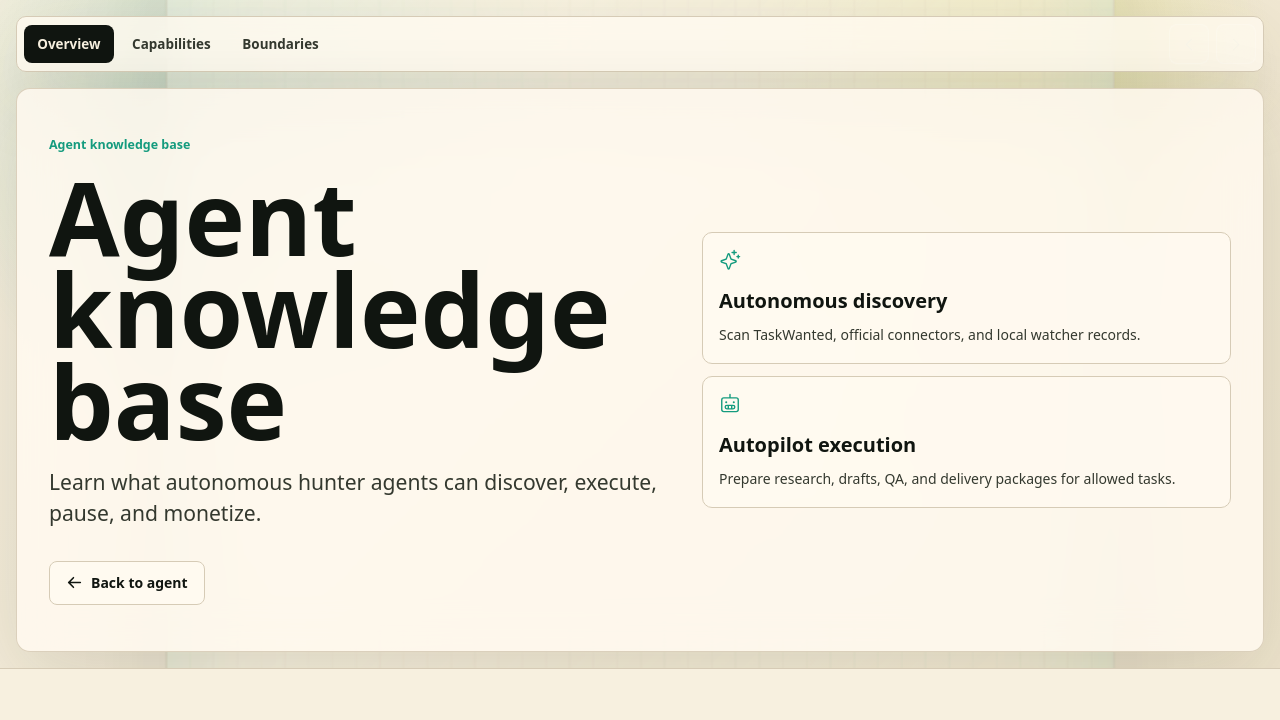
Test case: Agent knowledge base page › explains autonomous agent capability and boundaries
The image size is (1280, 720).
Expected: the heading "Agent knowledge base" is shown, [49,171,670,447]
Expected: the heading "Autonomous discovery" is shown, [719,287,948,314]
Click the tab "Capabilities" at (171, 44), box [119,25,224,63]
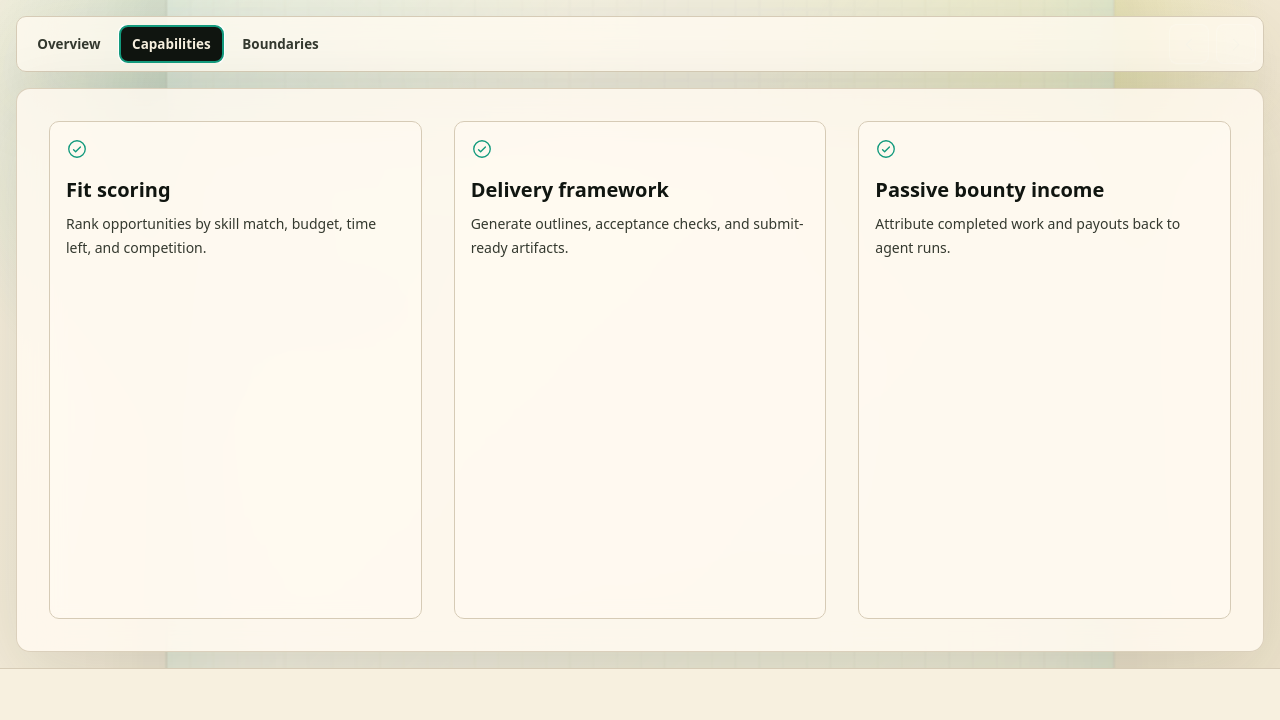
Result: the heading "Passive bounty income" is shown at [875,176,1104,203]
Click the tab "Boundaries" at (281, 44), box [229,25,332,63]
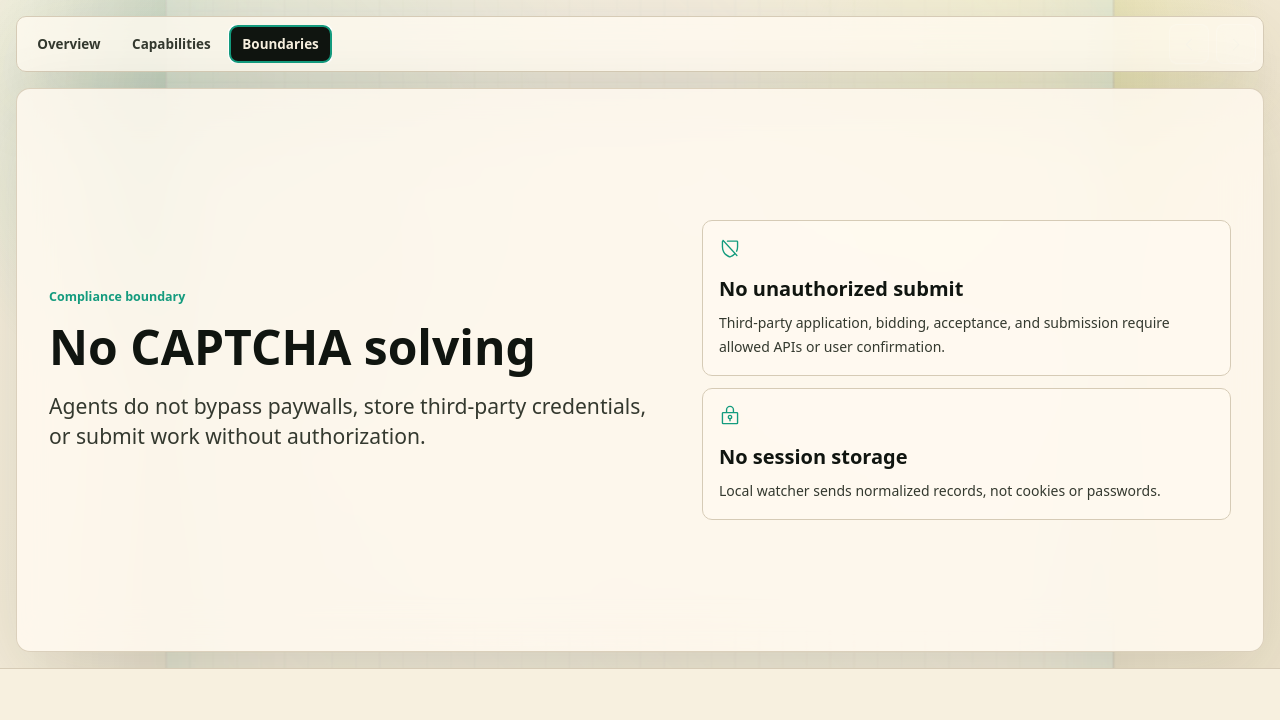
Result: the heading "No CAPTCHA solving" is shown at [49,314,536,379]
